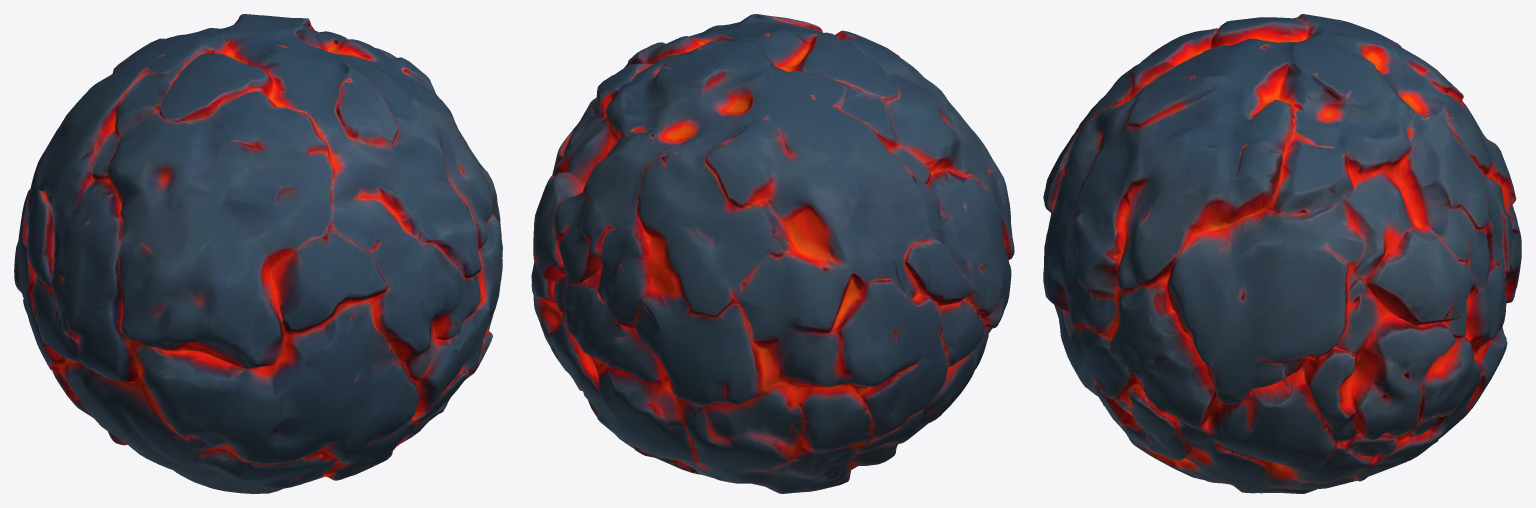
The model's file is model.opt.glb.
3 views of the same model, side by side, from view 1: azimuth 30°, elevation 25°; view 2: azimuth 150°, elevation 25°; view 3: azimuth 270°, elevation 25° (orthographic).
Bounding box in the file's own units: 2 × 1.97 × 1.96.
1 material, 1 textured.
